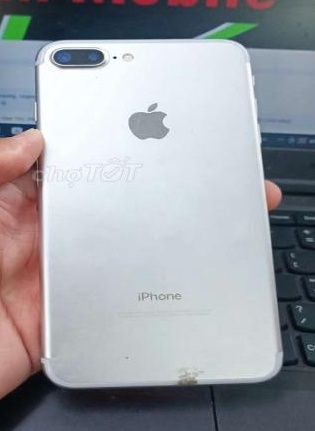scratch: (117, 350, 137, 362)
